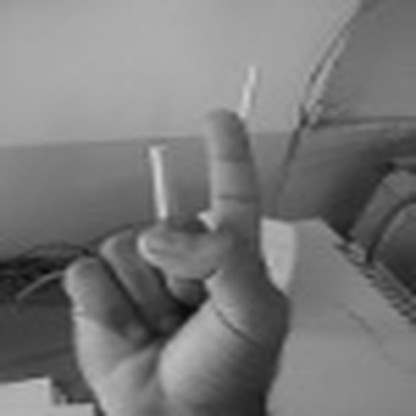d: (57, 104, 292, 409)
